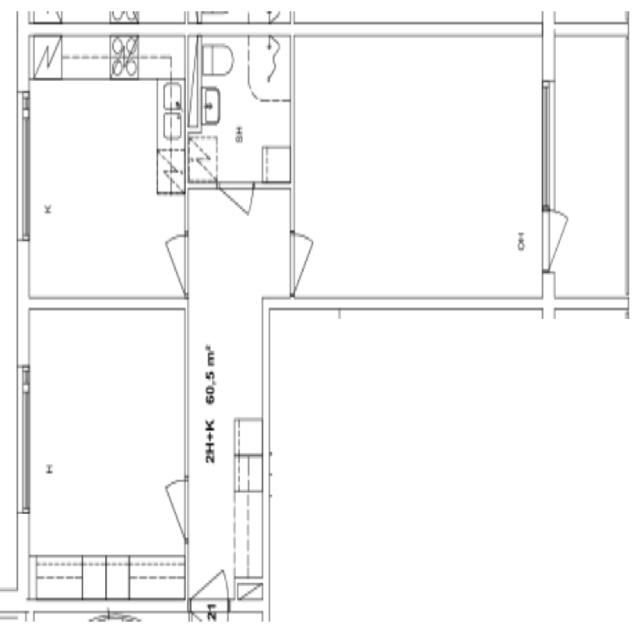door: (189, 567, 231, 626), (285, 222, 317, 294), (539, 202, 571, 272), (24, 27, 62, 84), (162, 471, 192, 539), (160, 227, 191, 290), (216, 176, 256, 216)
window: (535, 65, 561, 212), (179, 346, 194, 480)
zone: (288, 31, 547, 306), (26, 301, 187, 593), (26, 67, 186, 303), (546, 31, 629, 296), (190, 29, 292, 187)
